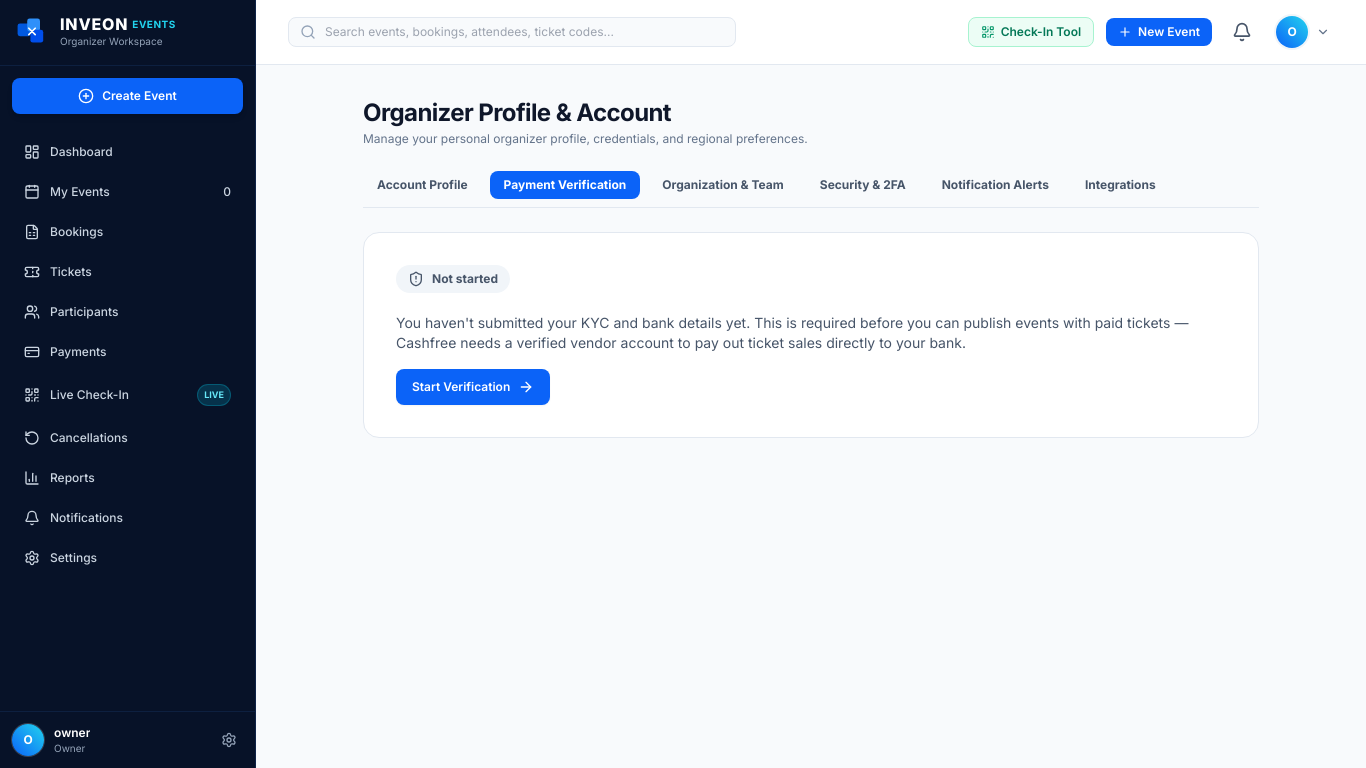
organizer verification: identity + bank details › Settings > Payment Verification shows "Not started" and a real entry point when nothing has been submitted yet — the gap that previously left existing accounts
Check: the text "Not started" is shown, box [396,265,510,293]
Check: the text "haven't submitted your KYC" is shown, box [396,314,1188,351]
Step 1. Click the button "Start Verification" → (473, 387), box [396,369,550,405]
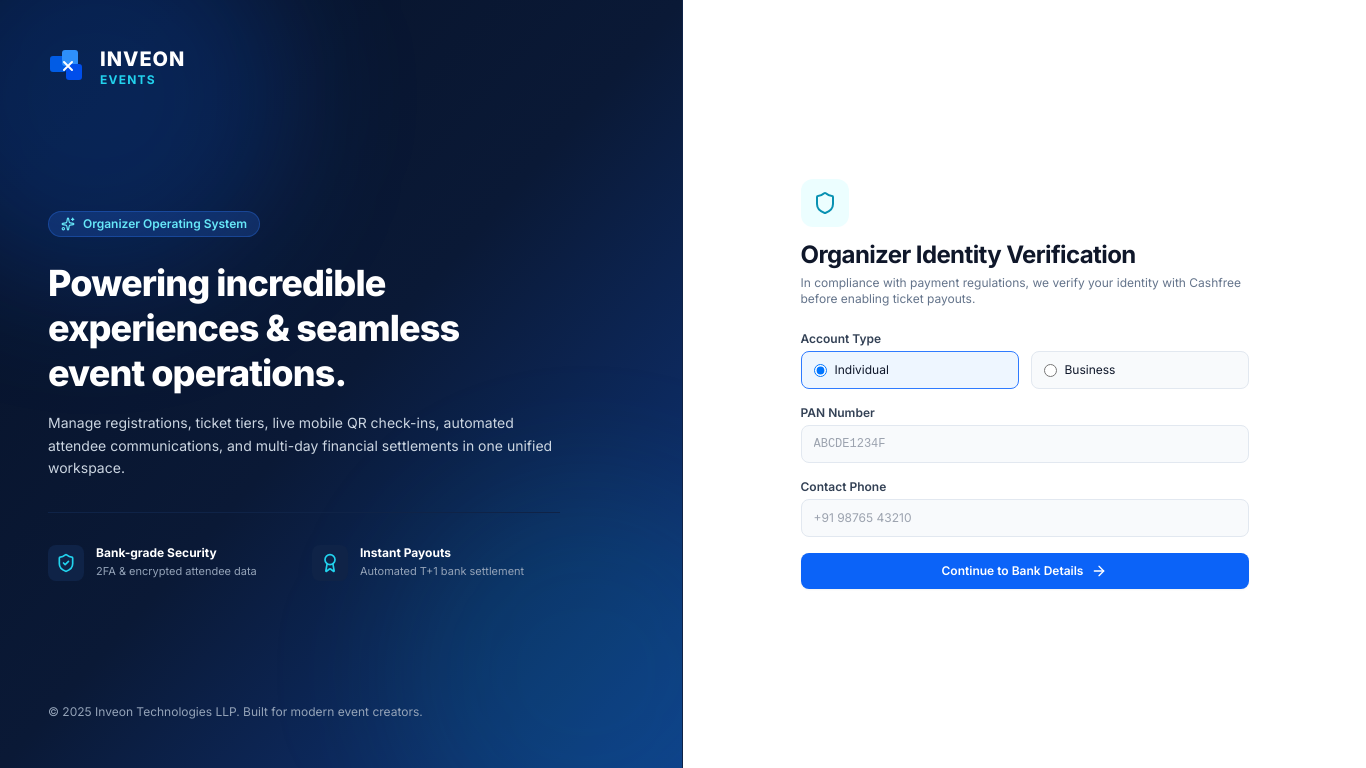
Check: the heading "Organizer Identity Verification" is shown, box [800,240,1136,269]
